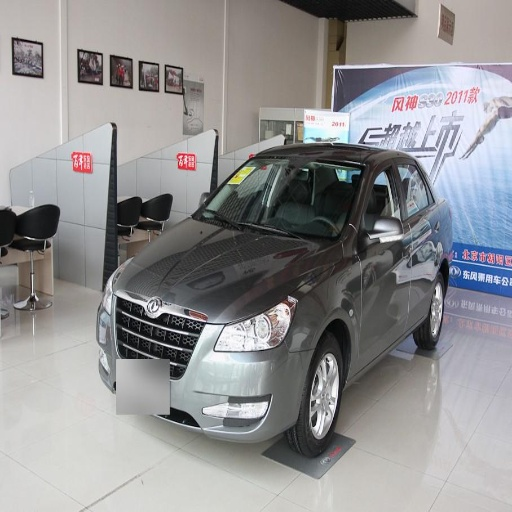back_left_door: (396, 155, 435, 325)
front_bumper: (109, 293, 311, 443)
front_glass: (192, 154, 364, 240)
front_left_door: (356, 156, 411, 366)
